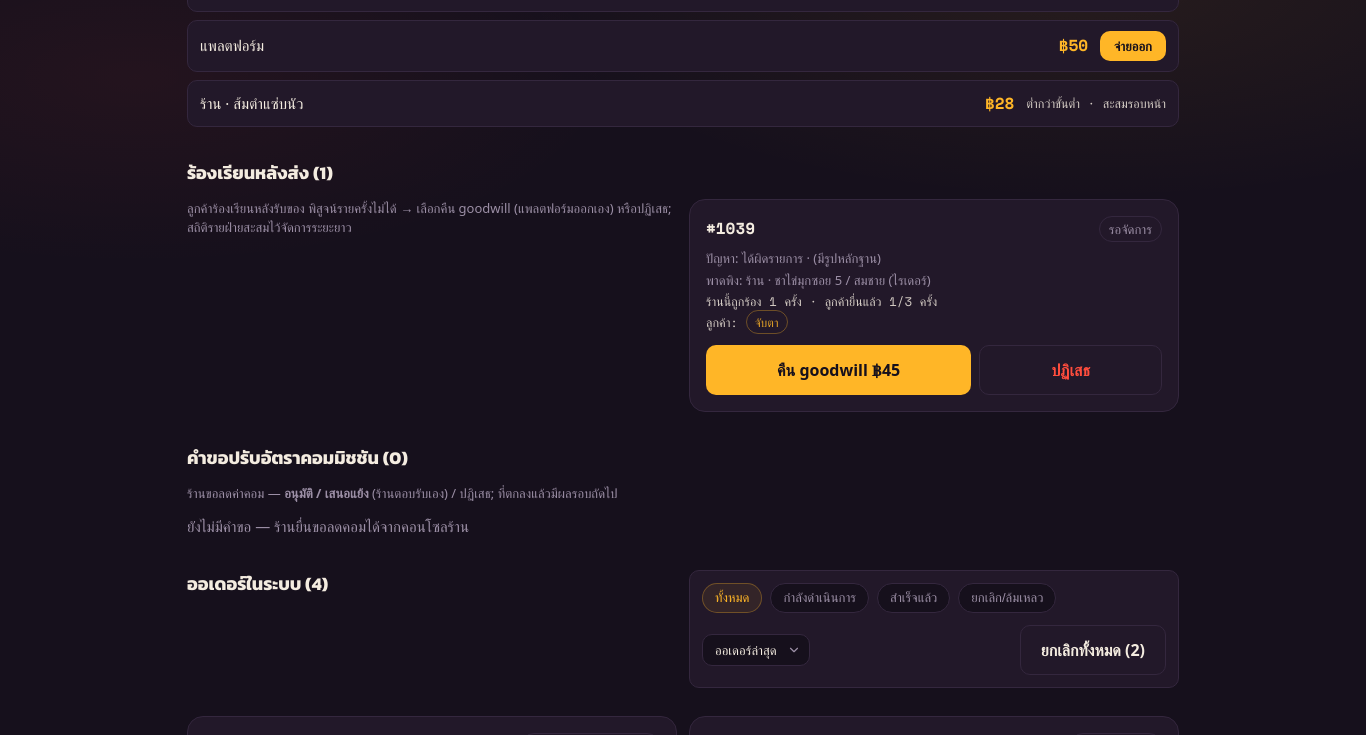
Admin — หลายออเดอร์ + suspend + force-cancel › dispute: ปฏิเสธคำร้อง (สงสัยโกง) → ปิดเคสไม่คืนเงิน
(page scrolled)
What coordinates should you click on to do the following:
click the button with aria-label "ปฏิเสธคำร้อง #1039"
I would click on:
 (1071, 370)
Its box is [979, 345, 1162, 395].
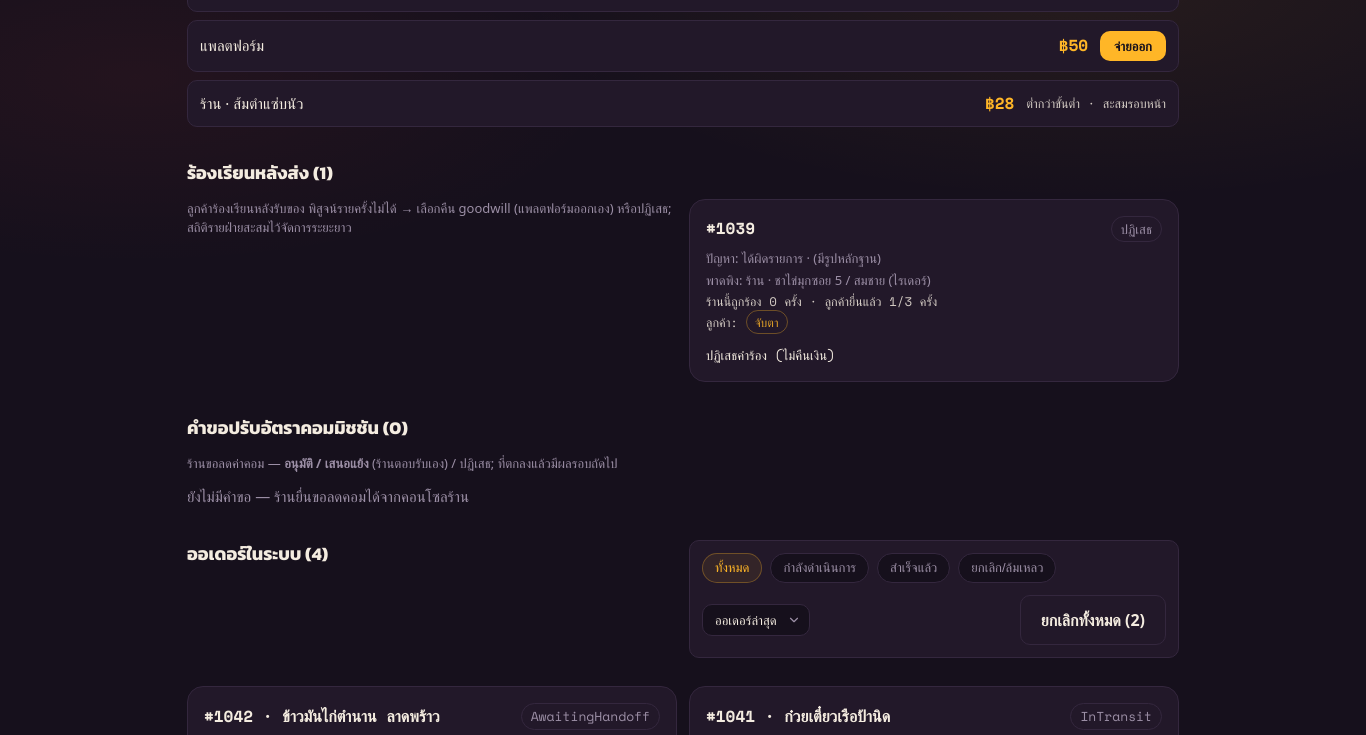
Expected: the text "ปฏิเสธคำร้อง (ไม่คืนเงิน)" is shown, [706, 345, 835, 365]
